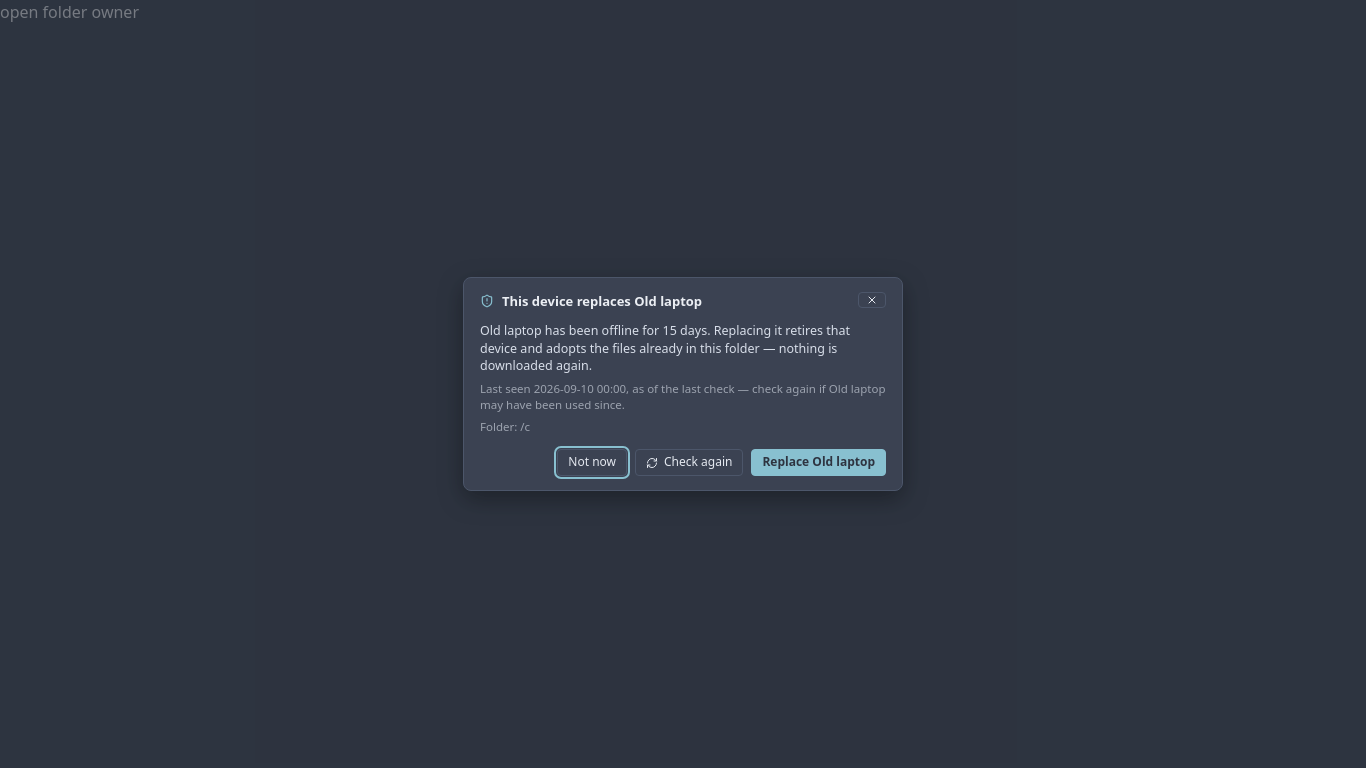
it: DeviceReplaceDialog — replace (another device of this account) › the shell close button means "Not now" for the replace prompt
The image size is (1366, 768).
Expected: the text "This device replaces Old laptop" is shown, [480,292,702,310]
What coordinates should you click on to do the following:
click the button named "Close"
I would click on:
 (872, 300)
Its box is [858,292,886,308].
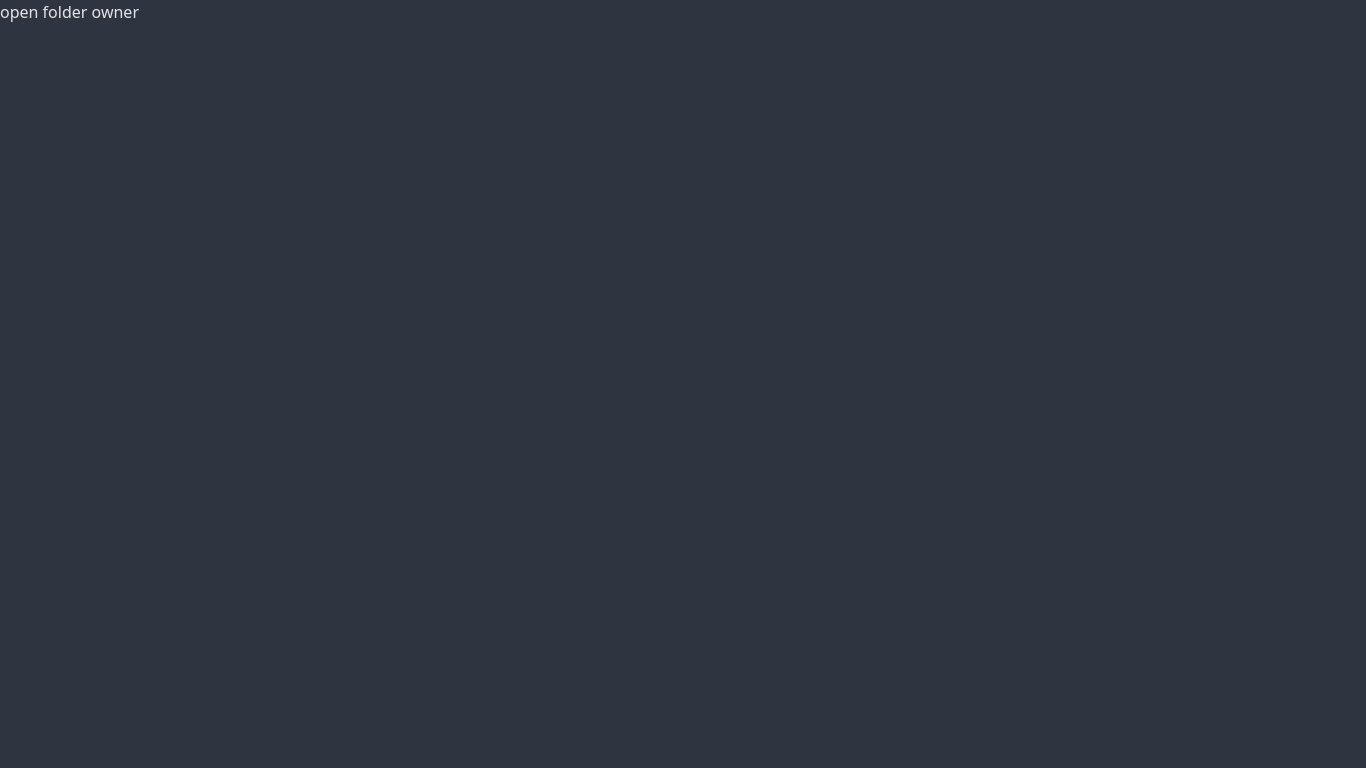
Result: the text "This device replaces Old laptop" is gone
